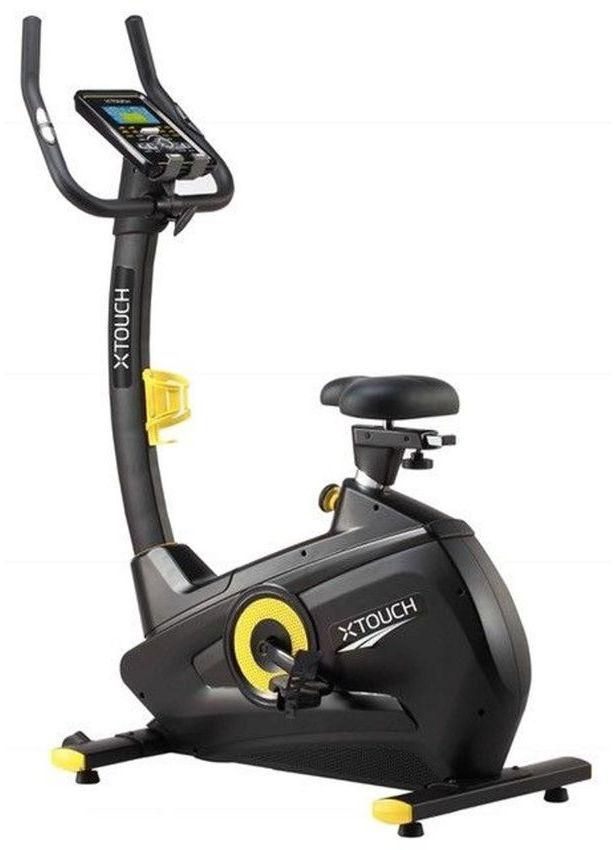gym_bike: (5, 9, 594, 833)
